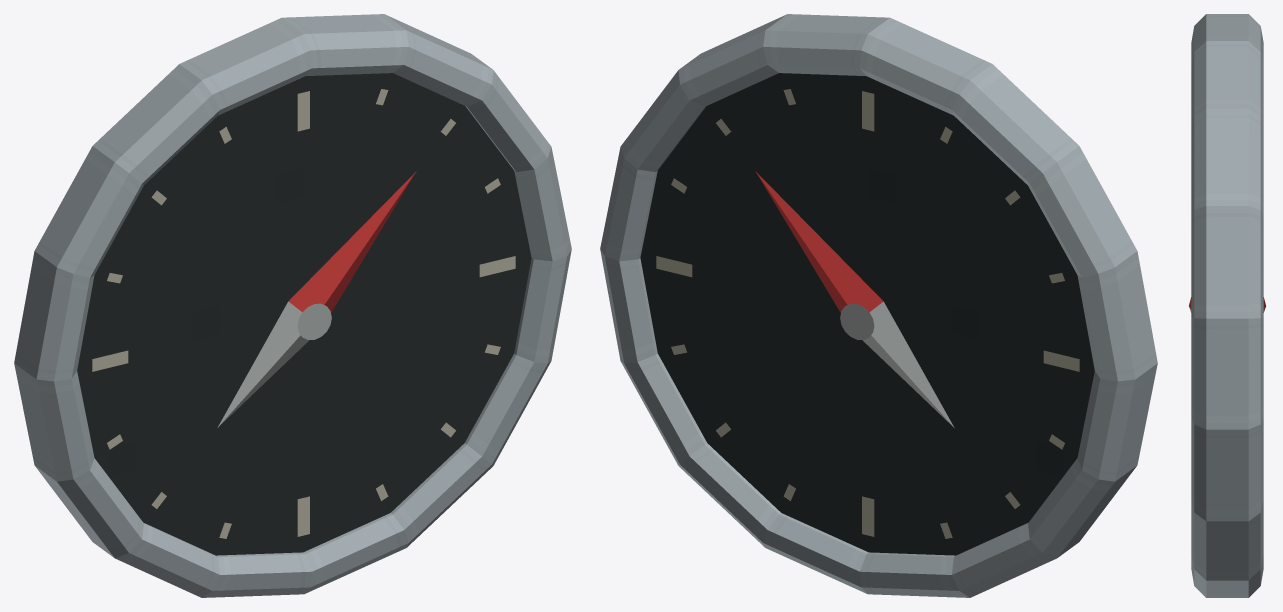
Rendered from compass_20.obj.
3 views of the same model, side by side, from view 1: azimuth 30°, elevation 25°; view 2: azimuth 150°, elevation 25°; view 3: azimuth 270°, elevation 25° (orthographic). The views are drawn at different scales.
Size of the model in its own units: 0.6037 by 0.6037 by 0.085.
